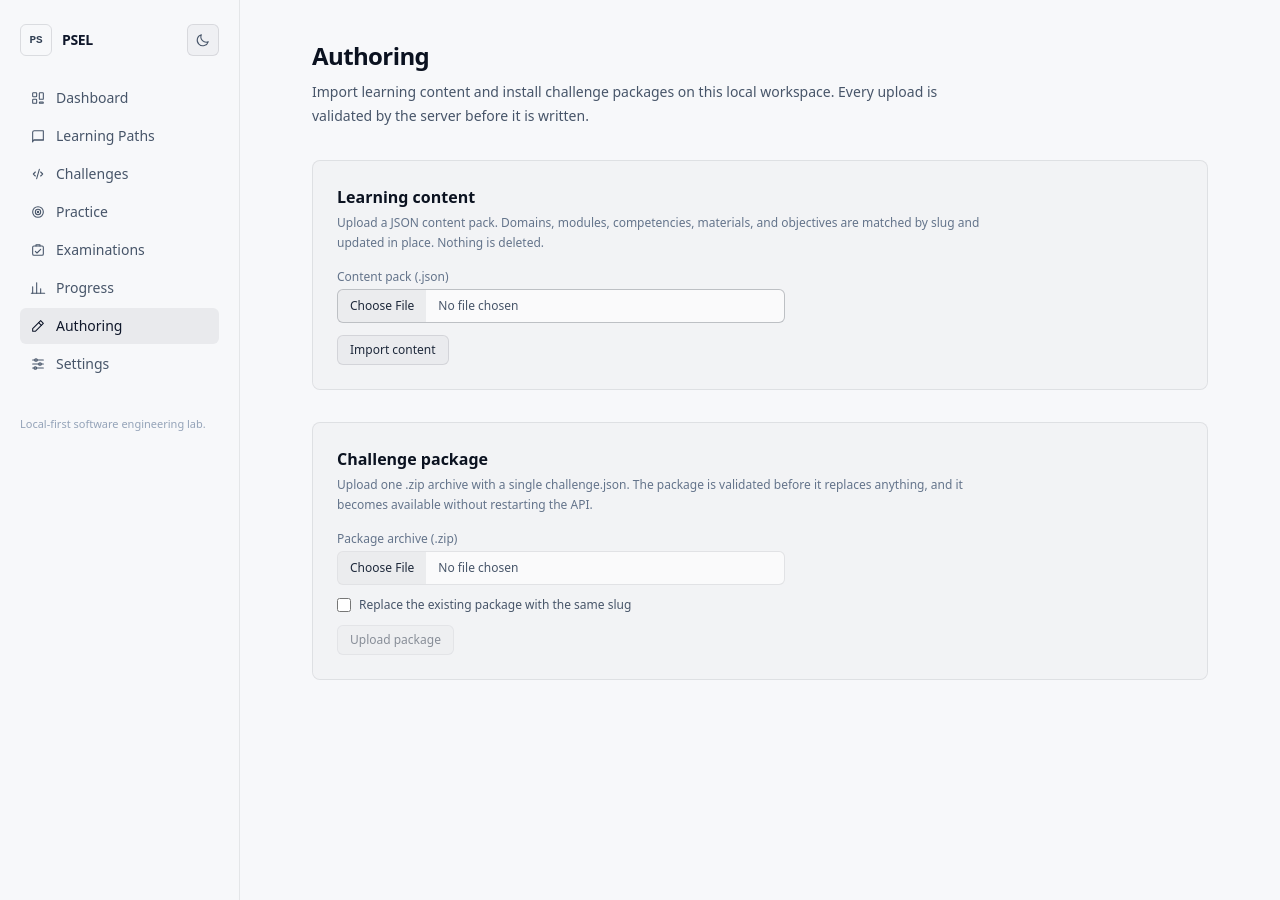
Test: AuthoringPage › shows the server message when a content pack is rejected
This screenshot has width=1280, height=900.
Earlier steps of the test are not shown.
Click the button "Import content" at [393, 350], box [337,335,449,365]
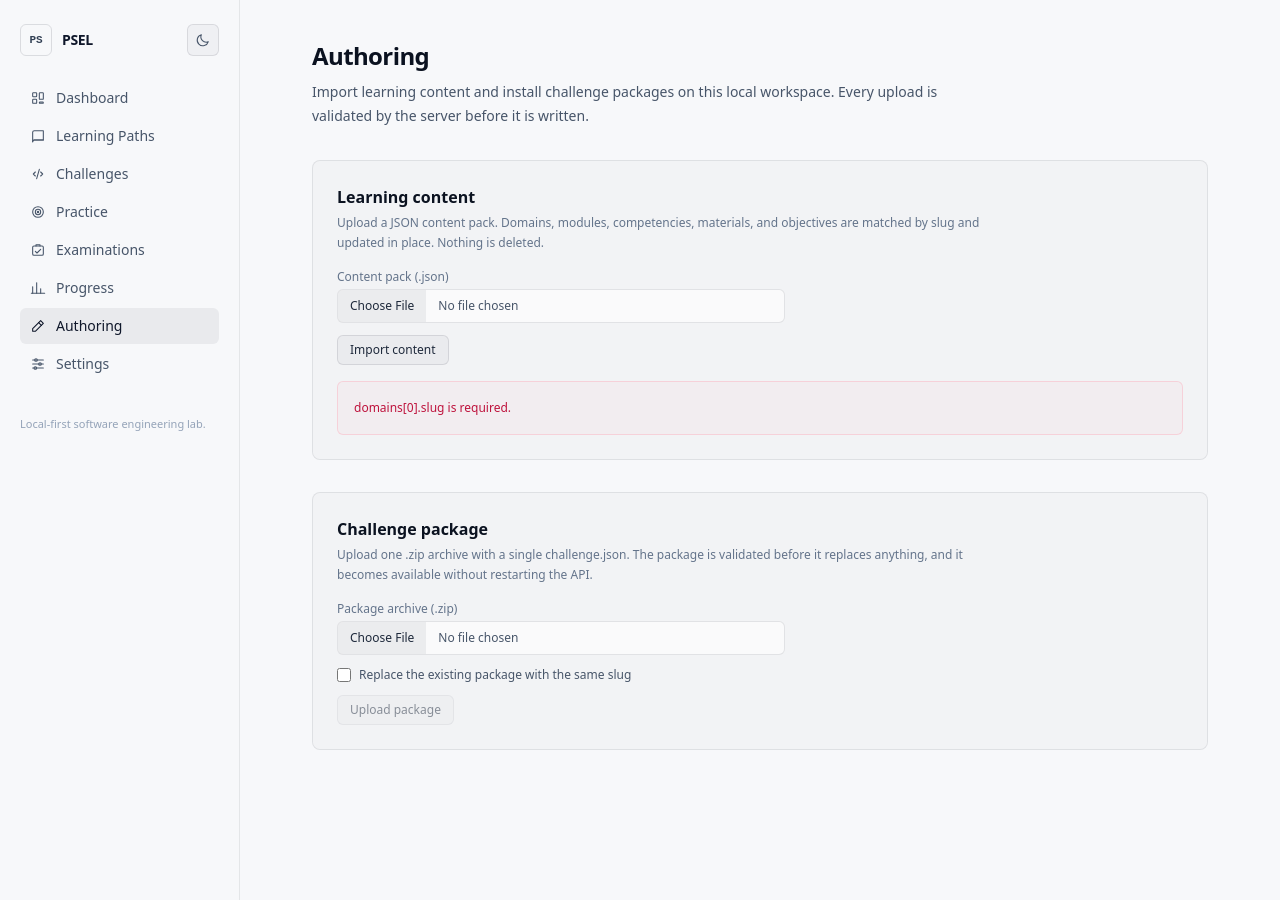
expect the message reads "domains[0].slug is required.": met, box [354,399,511,416]
